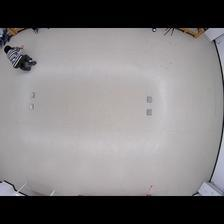fall: (4, 44, 36, 71)
